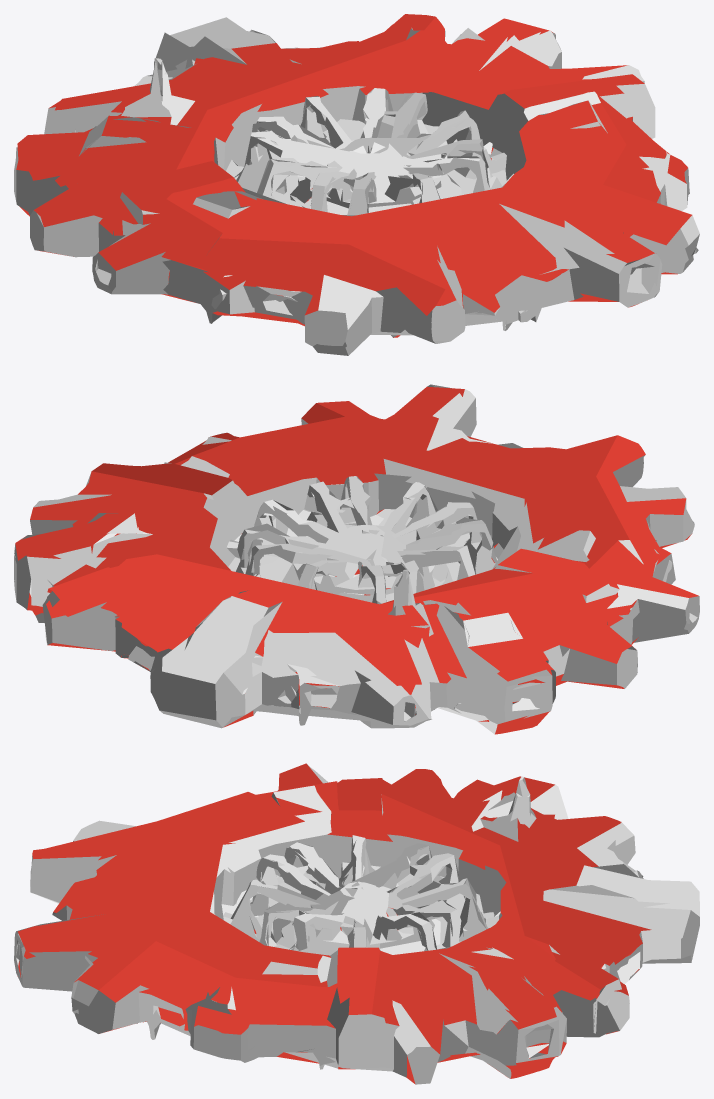
The model's file is warden_t2.glb.
3 views of the same model, one above another, from view 1: azimuth 30°, elevation 25°; view 2: azimuth 150°, elevation 25°; view 3: azimuth 270°, elevation 25° (orthographic). The views are drawn at different scales.
Visible parts, largest first — view 1: SpaceStation; view 2: SpaceStation; view 3: SpaceStation.
Boxes of the visible parts, bbox=[...] form: SpaceStation: bbox=[14, 14, 699, 355]; SpaceStation: bbox=[14, 384, 699, 734]; SpaceStation: bbox=[14, 763, 699, 1084].
Size of the model in its own units: 213 by 50 by 221.
